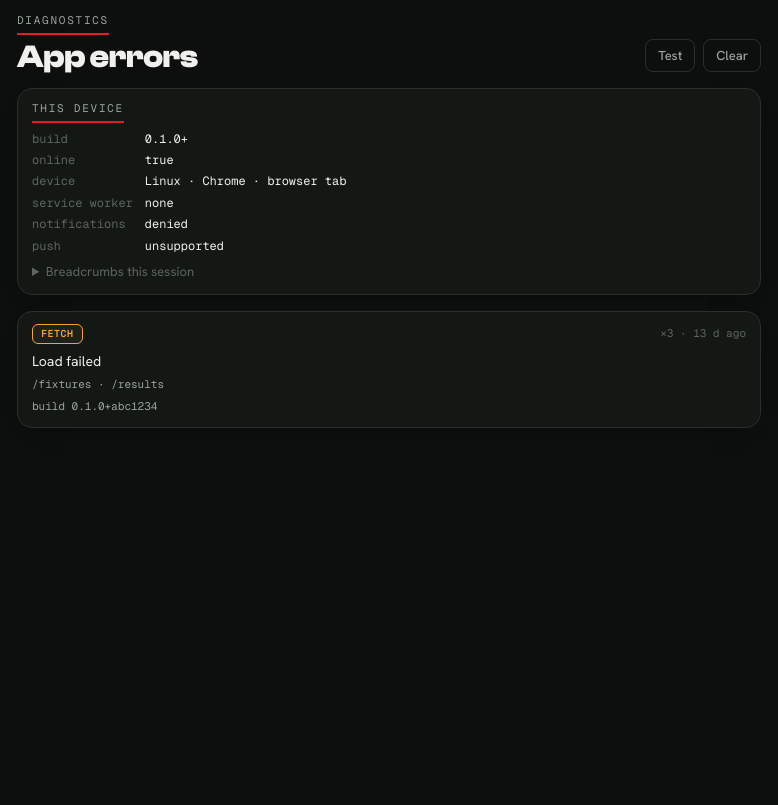
Test: Diagnostics › repeats collapse into one card with a count; tapping it shows each occurrence with its breadcrumbs and build
The width and height of the screenshot is (778, 805).
Click the button that starts with "fetch".
click(57, 334)  # box [32,324,746,415]
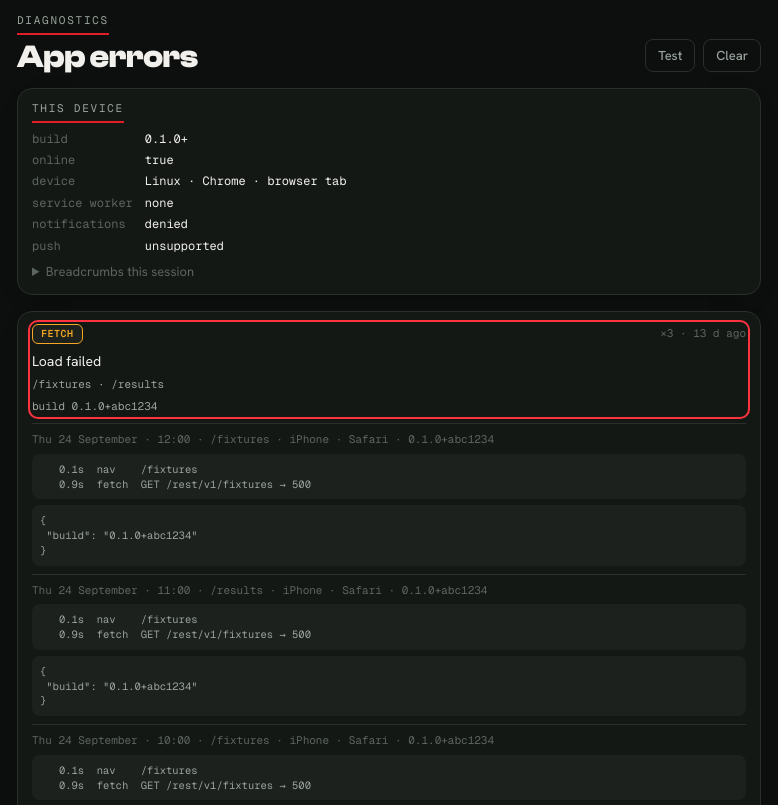
Expected: the number of elements with test id "breadcrumbs" is 3, [32,454,746,500]; [32,604,746,650]; [32,755,746,800]
Expected: the text with test id "breadcrumbs" below "Thu 24 September · 12:00" shows "GET /rest/v1/fixtures → 500", [40,462,311,491]
